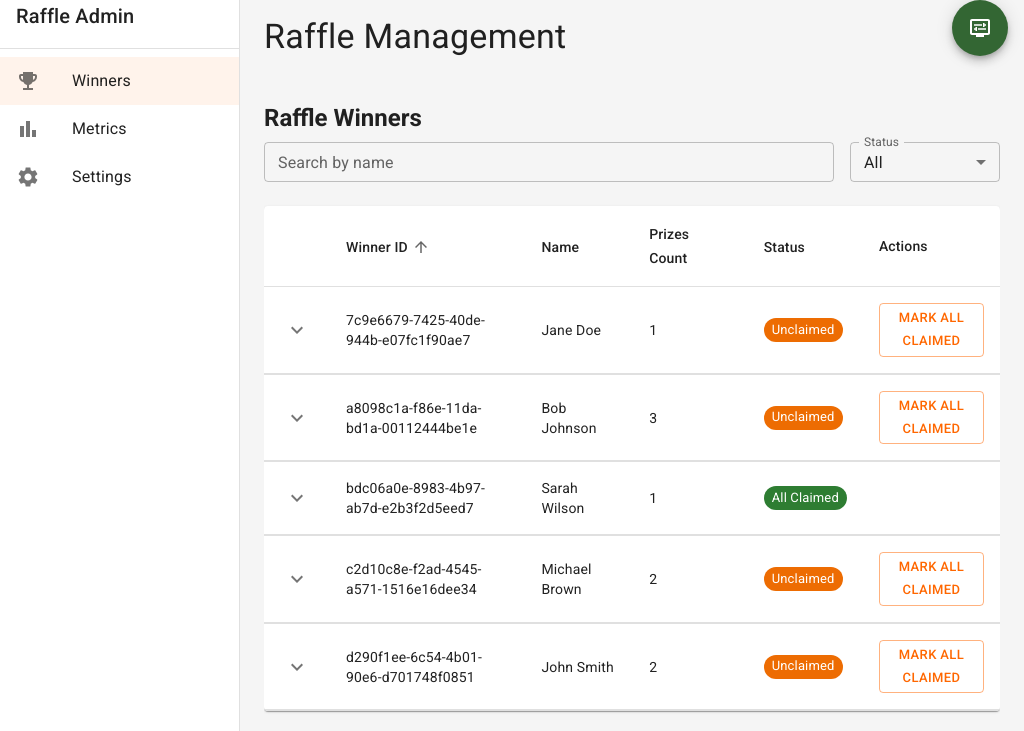
Scenario: Raffle Admin Page › should mark individual prizes as claimed
Note: Expand the winner row
Click the button without text next to "d290f1ee-6c54-4b01-90e6-d701748f0851" at {"x": 297, "y": 667}, box top-left (280, 650), bottom-right (314, 684)
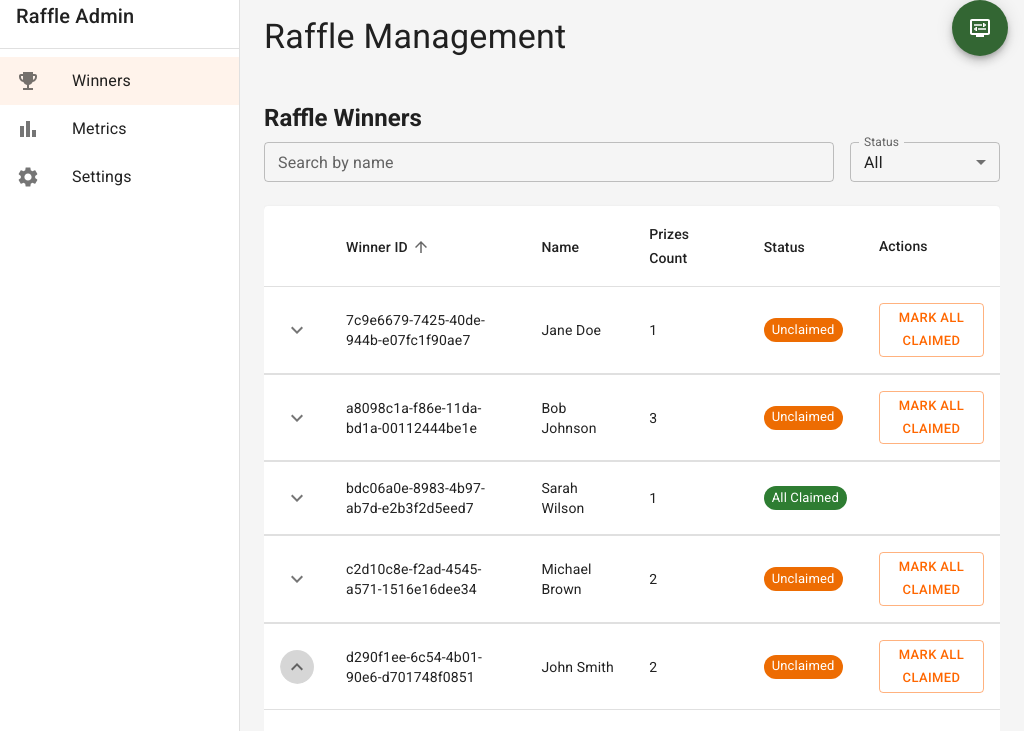
Scroll
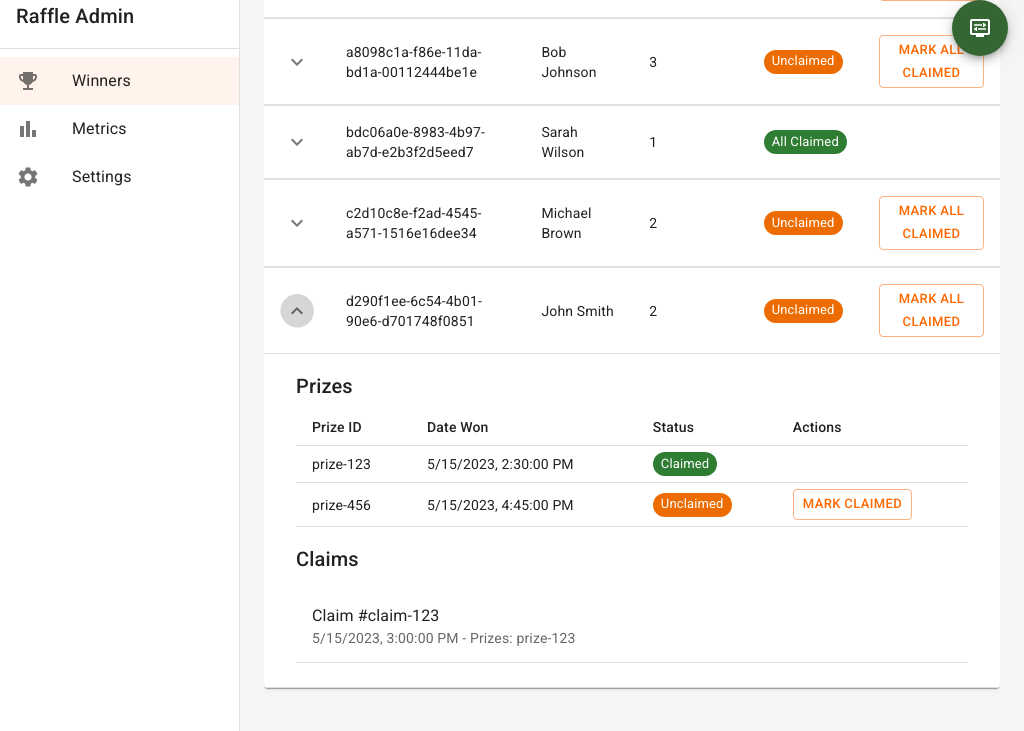
Note: Find the unclaimed prize row and click "Mark Claimed"
Click the button "Mark Claimed" at {"x": 853, "y": 505}, box top-left (793, 489), bottom-right (912, 520)
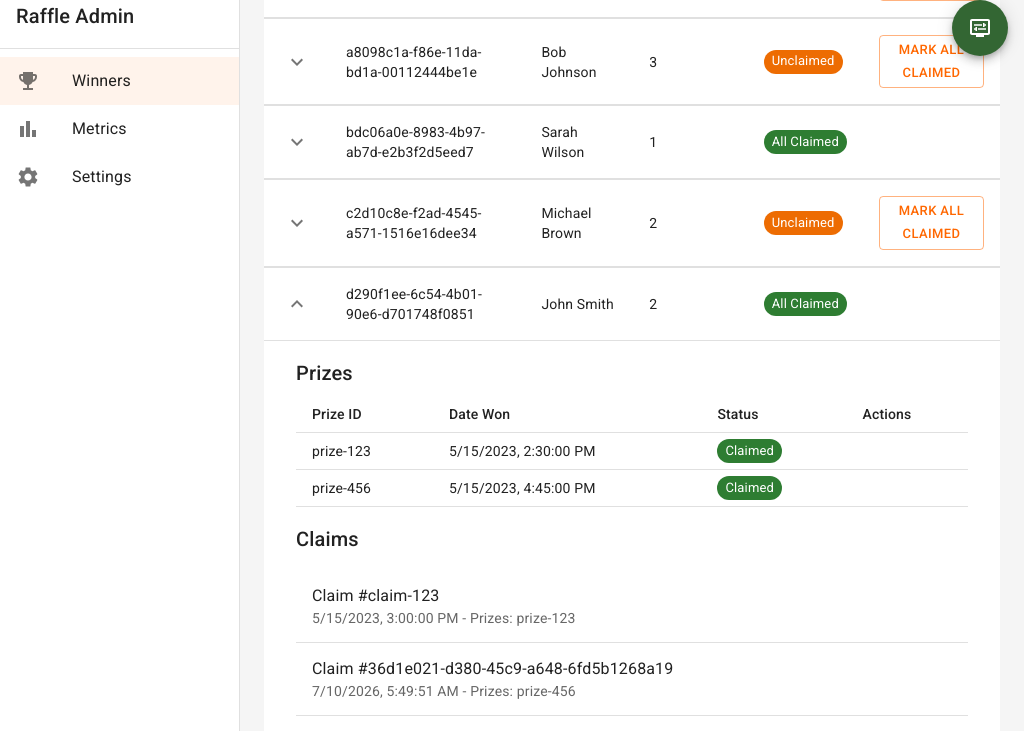
Expected: the text "Claimed" next to "5/15/2023, 4:45:00 PM" is shown, top-left (725, 480), bottom-right (774, 495)
